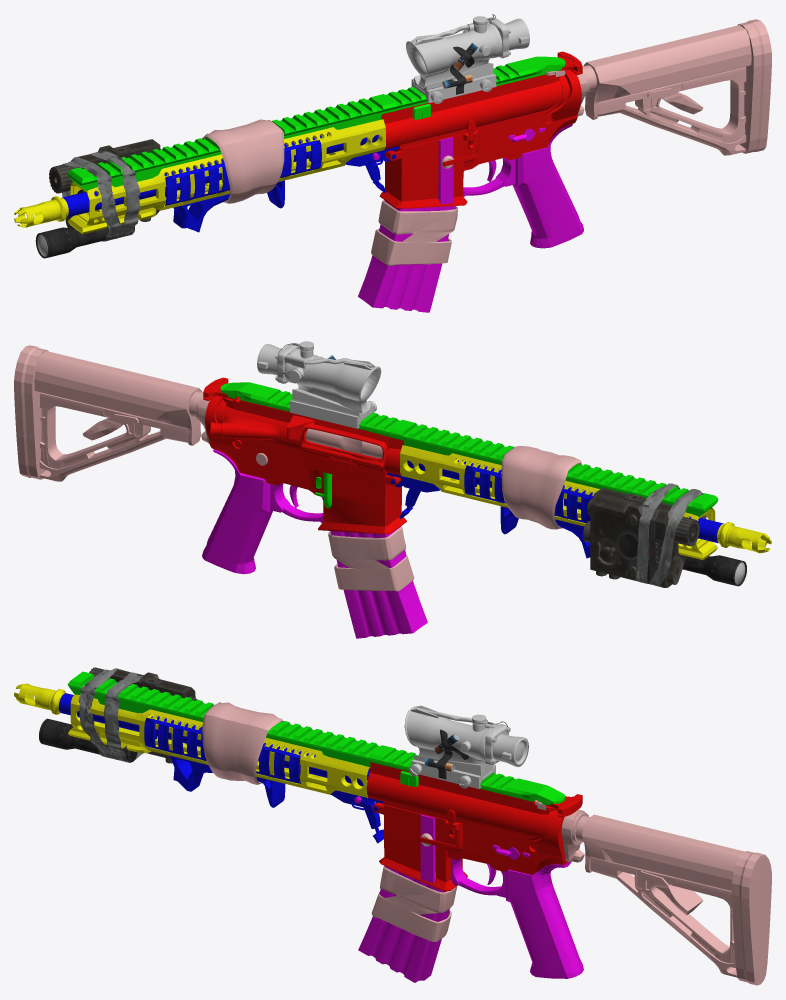
3 renders of one model, top to bottom at view 1: azimuth 30°, elevation 25°; view 2: azimuth 150°, elevation 25°; view 3: azimuth 330°, elevation 25°, orthographic.
Parts seen in each view (by area): view 1: pasted__polySurface34, polySurface27, pasted__NaliLP, polySurface23, polySurface16, polySurface122, pasted__polySurface36, polySurface18, polySurface17, polySurface135, pasted__group1_pasted__pCube1168, polySurface28 (+18 smaller); view 2: pasted__polySurface34, polySurface27, xzdgzxdgzxd, pasted__polySurface36, polySurface23, polySurface16, polySurface122, polySurface18, polySurface17, pasted__NaliLP, polySurface135, pasted__group1_pasted__pCube1168 (+16 smaller); view 3: pasted__polySurface34, polySurface27, pasted__NaliLP, polySurface16, polySurface28, polySurface23, polySurface122, pasted__polySurface36, polySurface18, polySurface17, polySurface135, pasted__group1_pasted__pCube1168 (+17 smaller).
Boxes of the visible parts, bbox=[...] form: pasted__polySurface34: bbox=[379, 70, 581, 208]; polySurface27: bbox=[583, 25, 751, 119]; pasted__NaliLP: bbox=[70, 119, 385, 225]; polySurface23: bbox=[598, 67, 746, 155]; polySurface16: bbox=[512, 124, 583, 248]; polySurface122: bbox=[202, 119, 284, 203]; pasted__polySurface36: bbox=[384, 80, 567, 149]; polySurface18: bbox=[371, 200, 457, 266]; polySurface17: bbox=[358, 200, 455, 312]; polySurface135: bbox=[406, 18, 529, 88]; pasted__group1_pasted__pCube1168: bbox=[67, 114, 317, 190]; polySurface28: bbox=[737, 19, 771, 153]; pasted__polySurface34: bbox=[205, 396, 406, 534]; polySurface27: bbox=[34, 351, 202, 445]; xzdgzxdgzxd: bbox=[583, 488, 699, 587]; pasted__polySurface36: bbox=[216, 405, 401, 485]; polySurface23: bbox=[39, 392, 187, 481]; polySurface16: bbox=[202, 449, 272, 574]; polySurface122: bbox=[501, 446, 582, 529]; polySurface18: bbox=[328, 526, 414, 591]; polySurface17: bbox=[330, 526, 427, 638]; pasted__NaliLP: bbox=[400, 445, 715, 551]; polySurface135: bbox=[257, 343, 381, 413]; pasted__group1_pasted__pCube1168: bbox=[468, 440, 718, 516]; pasted__polySurface34: bbox=[372, 802, 567, 891]; polySurface27: bbox=[582, 814, 744, 891]; pasted__NaliLP: bbox=[70, 694, 369, 797]; polySurface16: bbox=[506, 862, 583, 978]; polySurface28: bbox=[731, 851, 771, 985]; polySurface23: bbox=[590, 857, 737, 977]; polySurface122: bbox=[202, 702, 283, 784]; pasted__polySurface36: bbox=[366, 773, 547, 837]; polySurface18: bbox=[371, 866, 457, 941]; polySurface17: bbox=[358, 866, 449, 982]; polySurface135: bbox=[404, 706, 528, 767]; pasted__group1_pasted__pCube1168: bbox=[67, 671, 314, 746].
Size of the model in its own units: 69.42 by 24.52 by 6.64.
